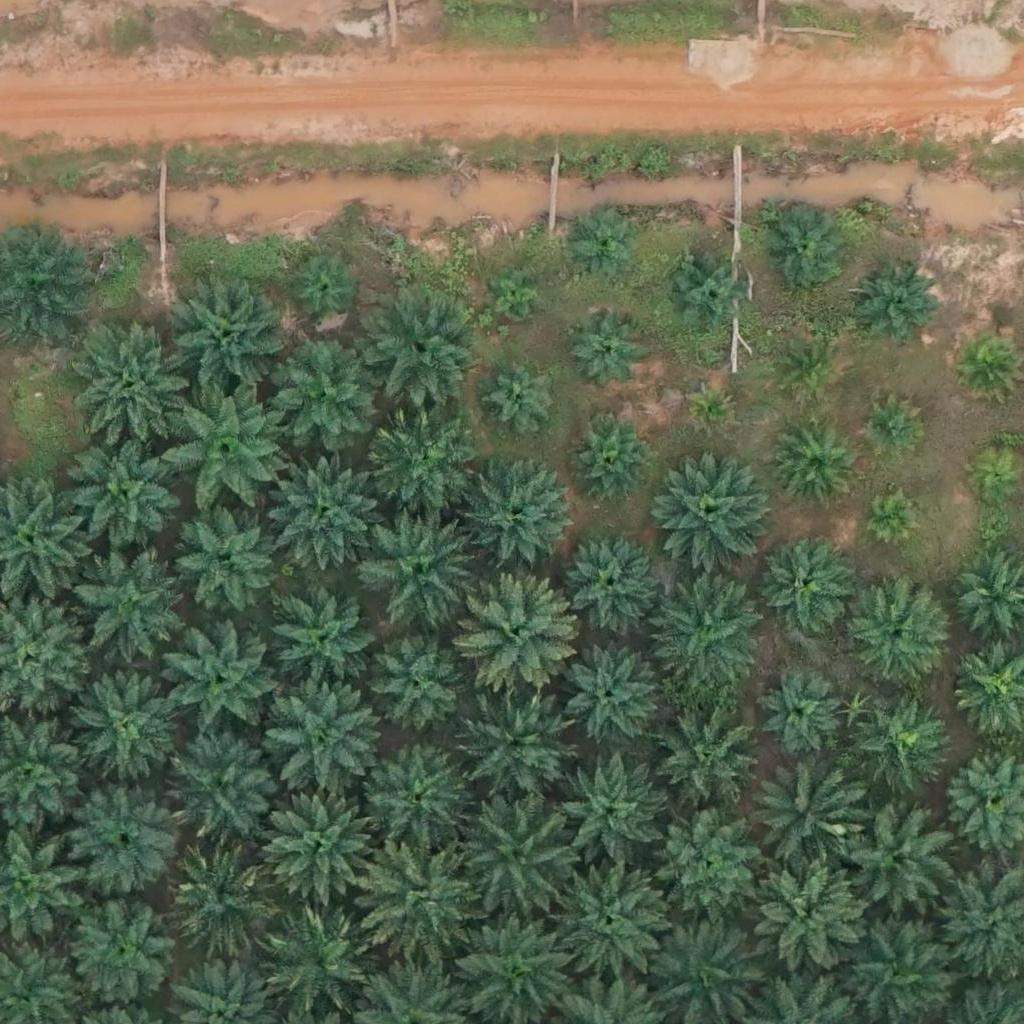Kelapa_Sawit: (655, 451, 768, 565), (546, 756, 659, 870), (456, 576, 569, 690), (267, 456, 380, 570), (837, 805, 950, 918), (559, 863, 672, 976), (369, 411, 482, 524), (361, 294, 474, 407), (358, 748, 471, 861), (367, 844, 480, 957), (267, 339, 380, 452), (70, 435, 183, 548), (68, 781, 181, 894), (360, 516, 472, 630), (262, 677, 374, 791), (171, 388, 283, 502), (78, 553, 190, 667), (262, 907, 374, 1020), (168, 848, 280, 961), (647, 806, 759, 919), (655, 585, 767, 698), (454, 799, 566, 912), (459, 691, 571, 804), (465, 459, 577, 572), (270, 578, 382, 691), (266, 783, 378, 896), (172, 731, 284, 844), (174, 279, 286, 392), (168, 620, 280, 733), (64, 327, 176, 440), (73, 672, 185, 785), (755, 768, 855, 869), (755, 864, 855, 965), (563, 532, 663, 633), (72, 906, 172, 1007), (848, 694, 948, 794), (844, 586, 944, 686), (755, 534, 855, 634), (652, 702, 752, 802), (559, 647, 659, 747), (369, 627, 469, 727), (178, 504, 278, 604), (661, 248, 749, 336), (756, 671, 844, 759), (567, 415, 655, 503), (762, 204, 849, 292), (771, 419, 858, 507), (858, 272, 933, 348), (567, 314, 642, 390), (569, 211, 632, 274), (291, 259, 354, 322), (958, 332, 1021, 395), (490, 366, 552, 429), (781, 338, 843, 401), (968, 451, 1018, 502), (870, 494, 920, 544), (865, 402, 915, 452), (492, 271, 542, 321), (689, 387, 726, 424)
